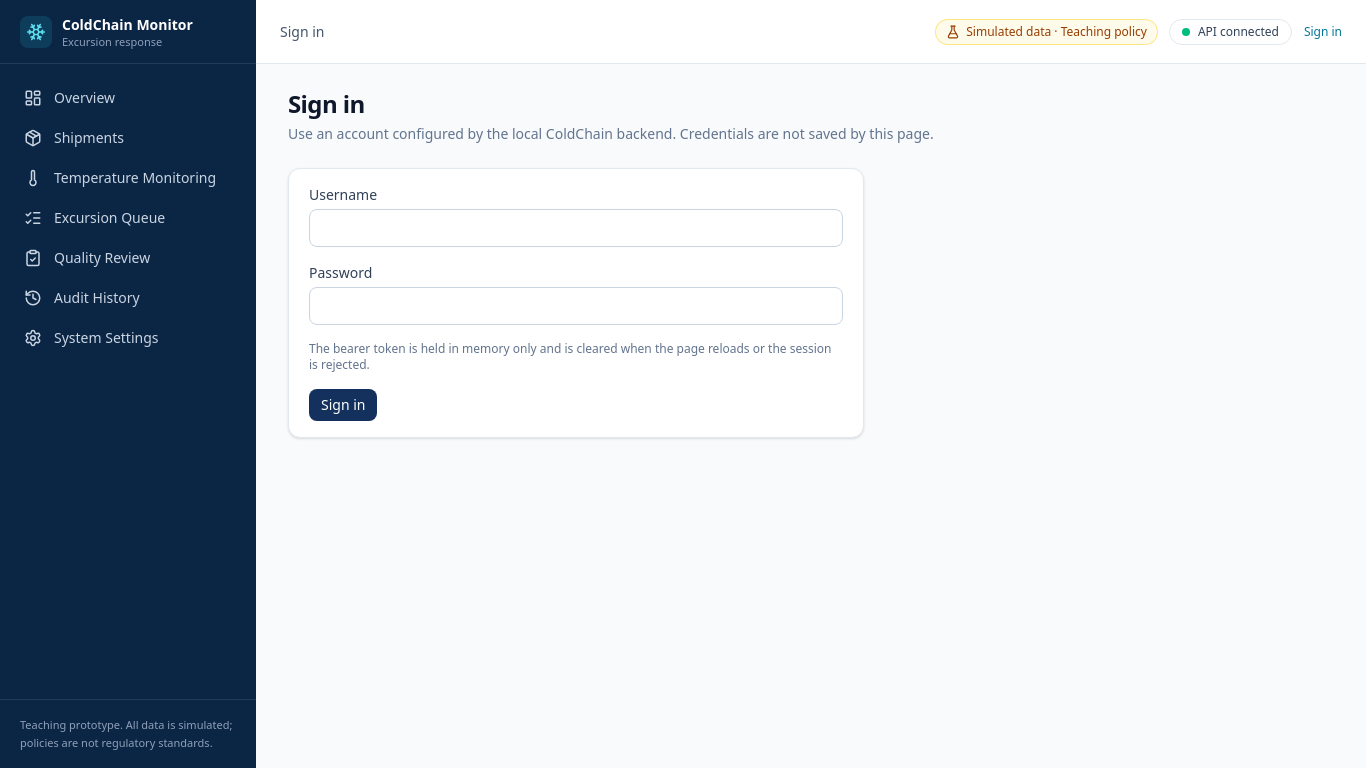
Test: authentication and quality authorization › does not expose disposition controls to a signed-in non-QUALITY role
In the field labelled "Username": coordinates (576, 228) x1=309 y1=209 x2=843 y2=247, type "carrier.demo"
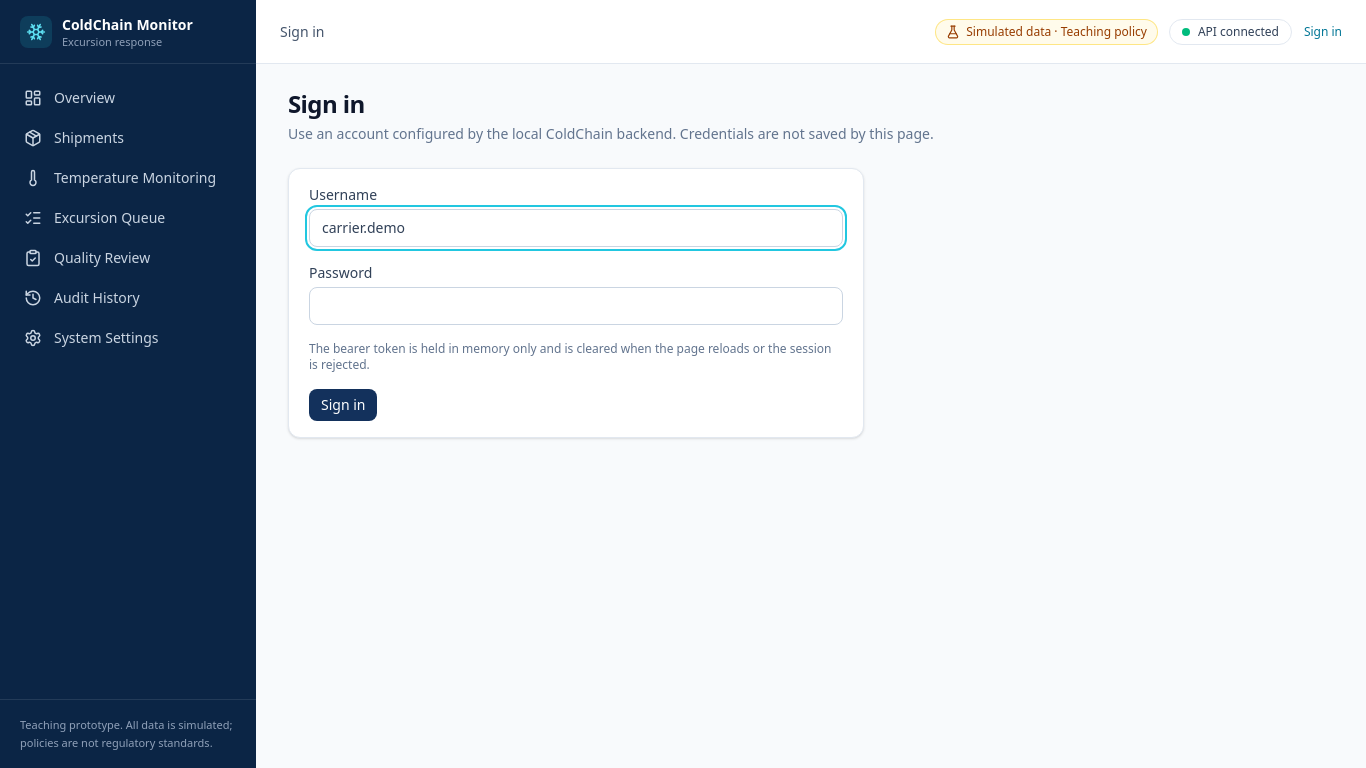
In the password field labelled "Password": coordinates (576, 306) x1=309 y1=287 x2=843 y2=325, type "local-only-password"
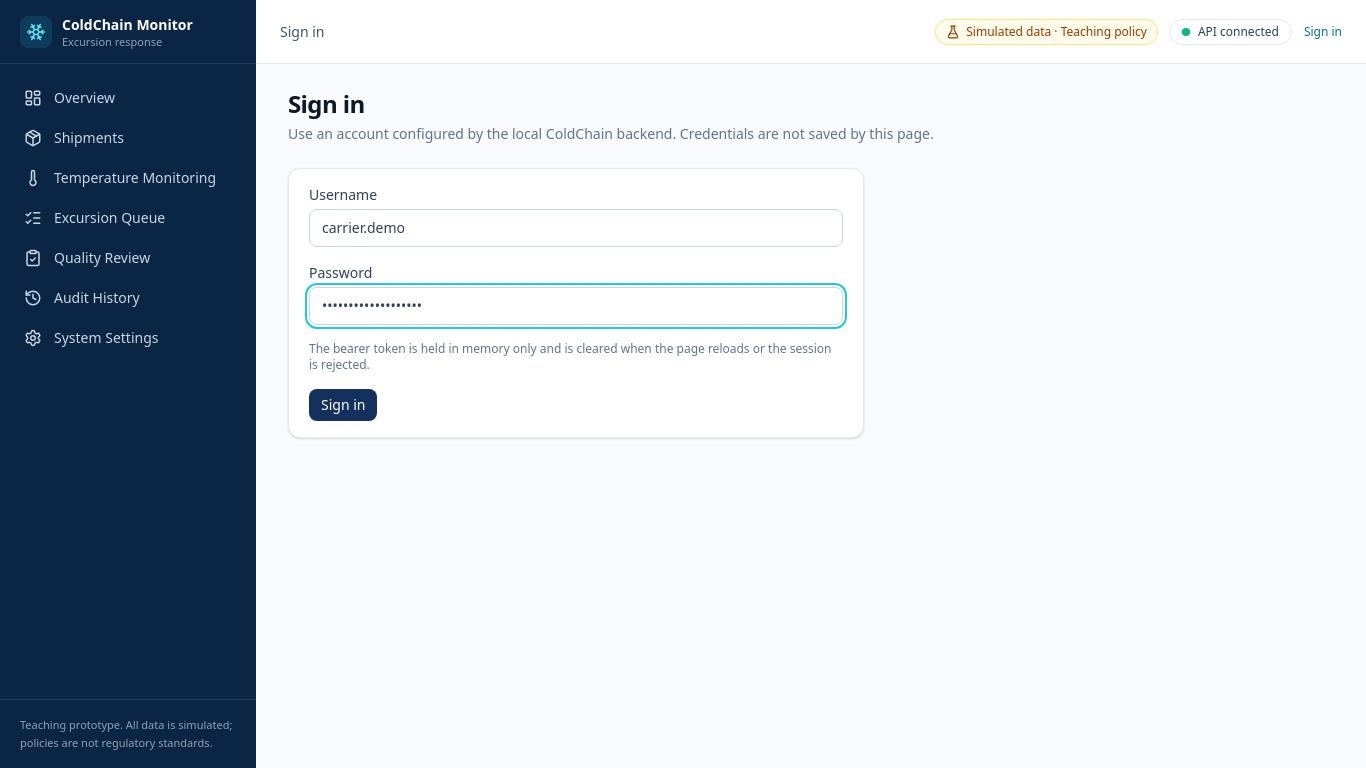
Click the button "Sign in": coordinates (343, 405) x1=309 y1=389 x2=378 y2=421
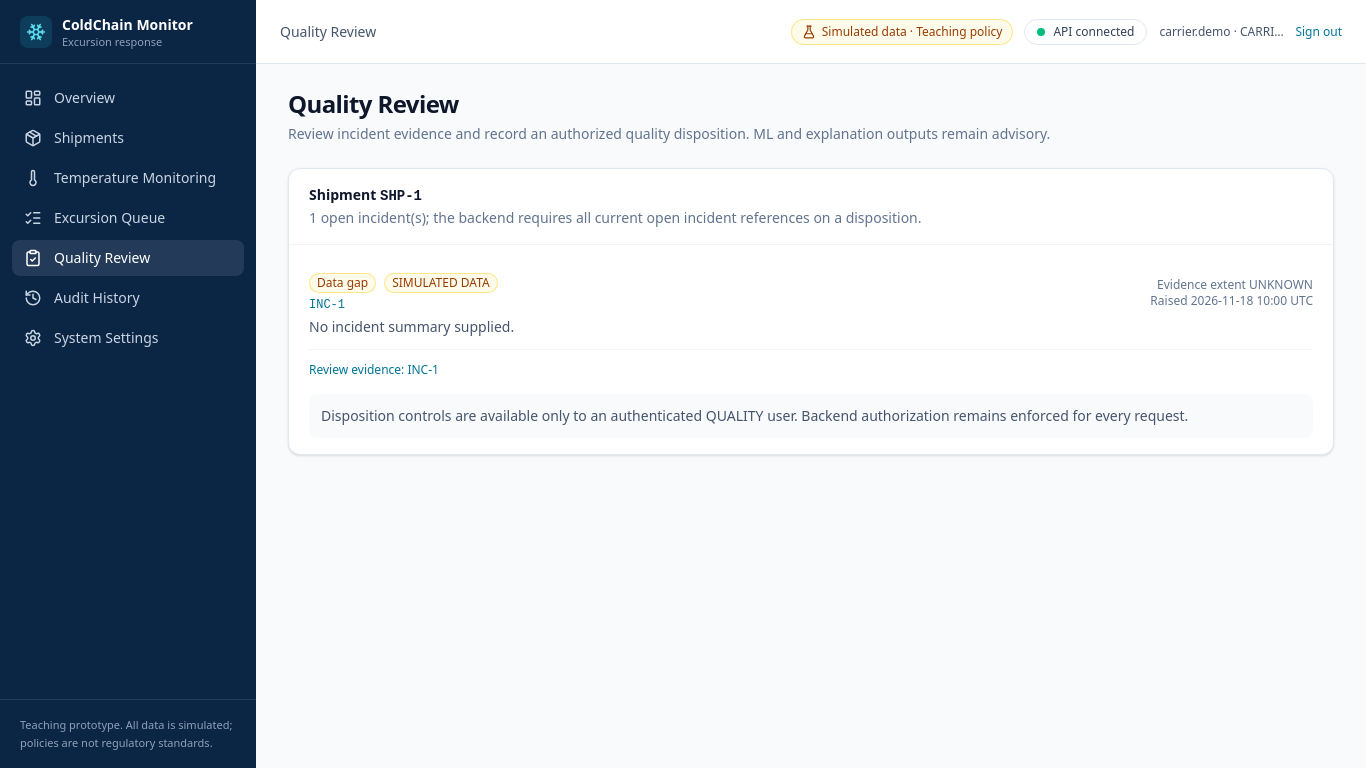
Result: the text "Disposition controls are available only to an authenticated QUALITY user" is shown at x1=321 y1=406 x2=1188 y2=425
